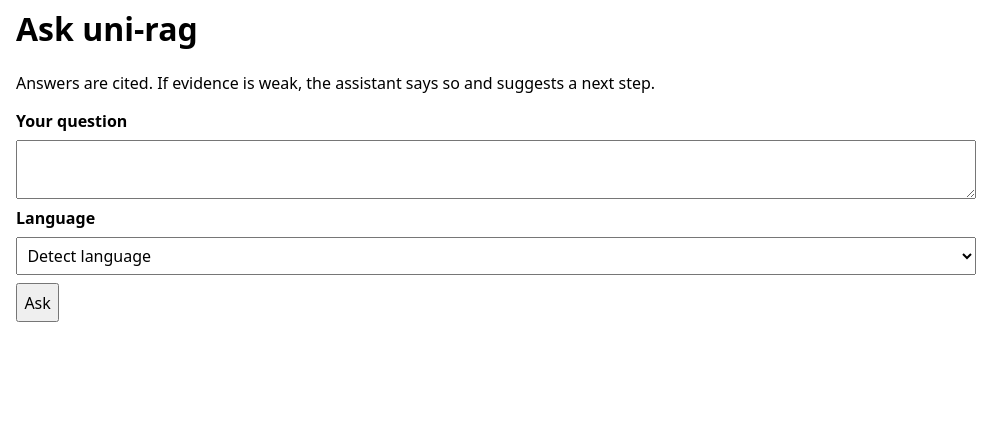
Scenario: ChatPage › shows the trace request id on a typed HTTP error
The image size is (993, 441).
Type "What is the fee?" into the text box labelled "Your question" at {"x": 496, "y": 169}, box [16, 140, 976, 199]
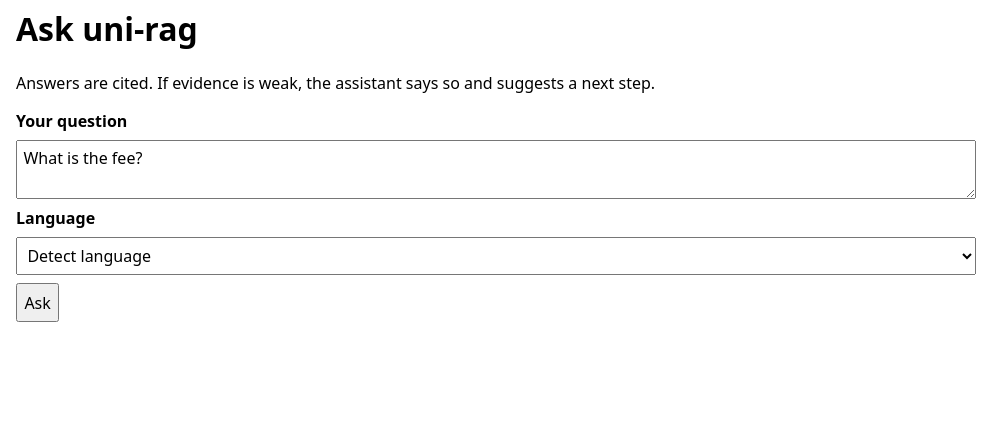
Click the button "Ask" at {"x": 38, "y": 303}, box [16, 283, 59, 322]
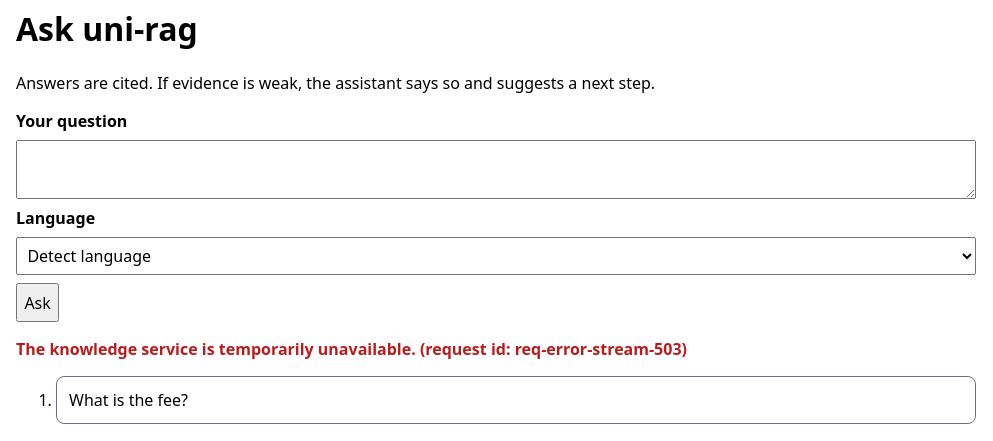
Expected: the message shows "req-error-stream-503", [515, 338, 682, 360]
